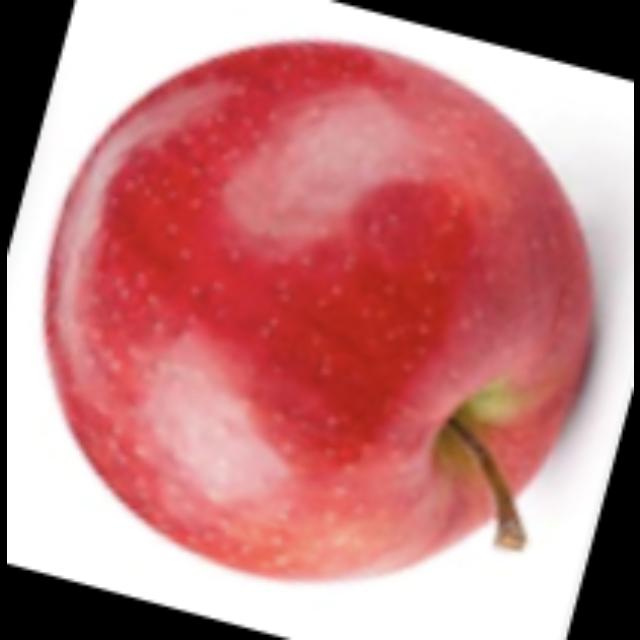Apel Segar: (32, 37, 600, 582)
